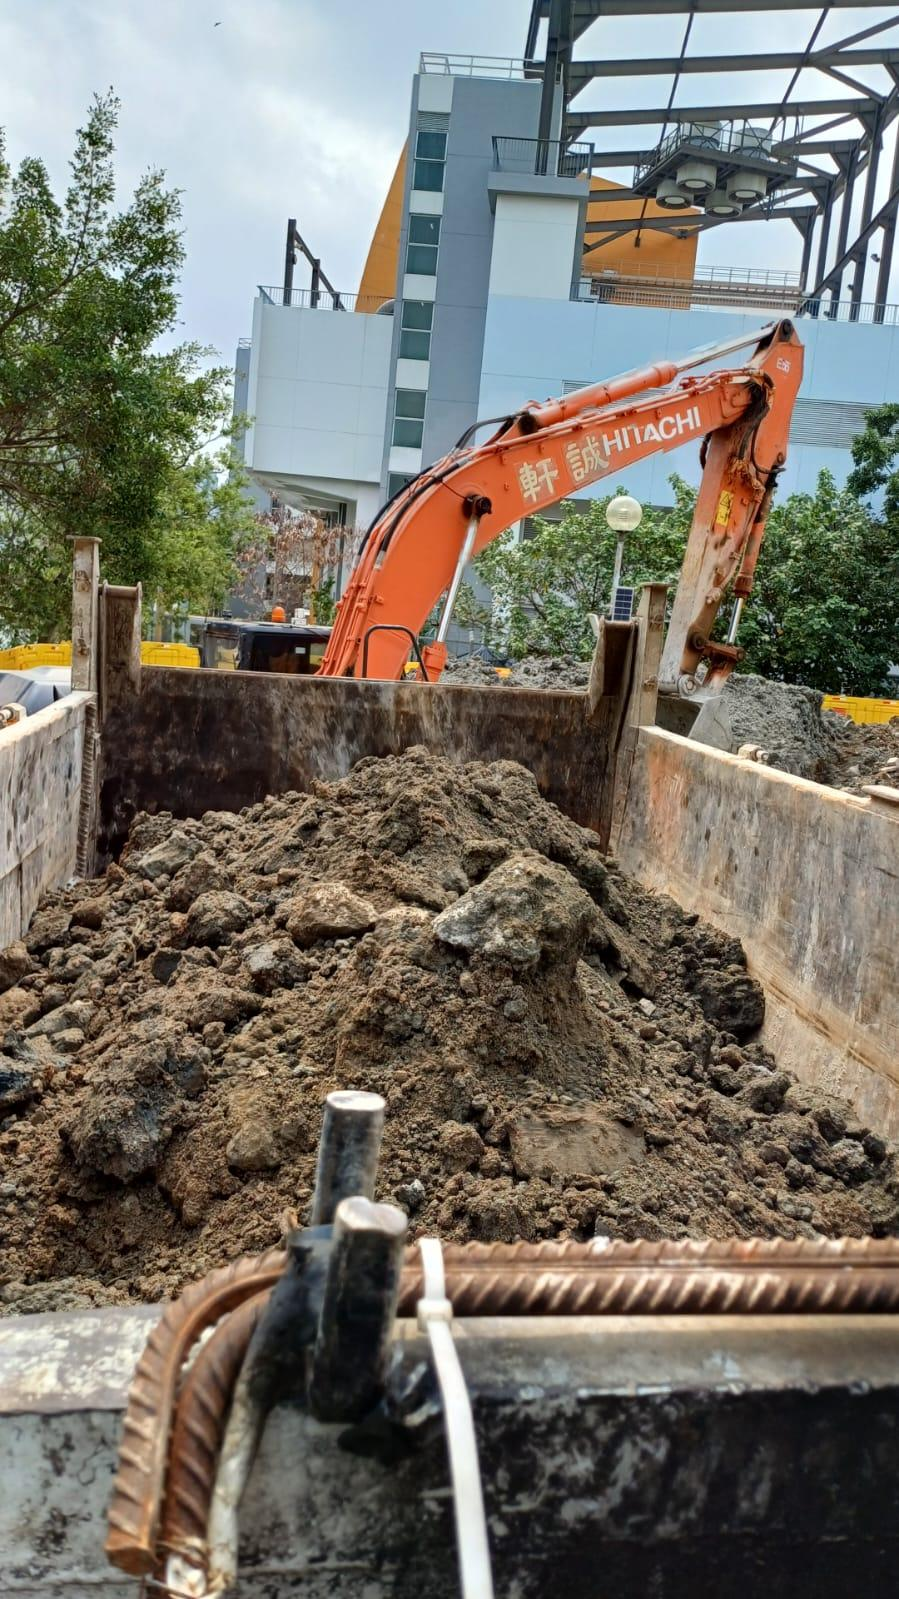dirt: (1, 739, 897, 1313)
stone: (429, 848, 596, 972), (504, 1098, 647, 1181), (277, 880, 377, 944)
